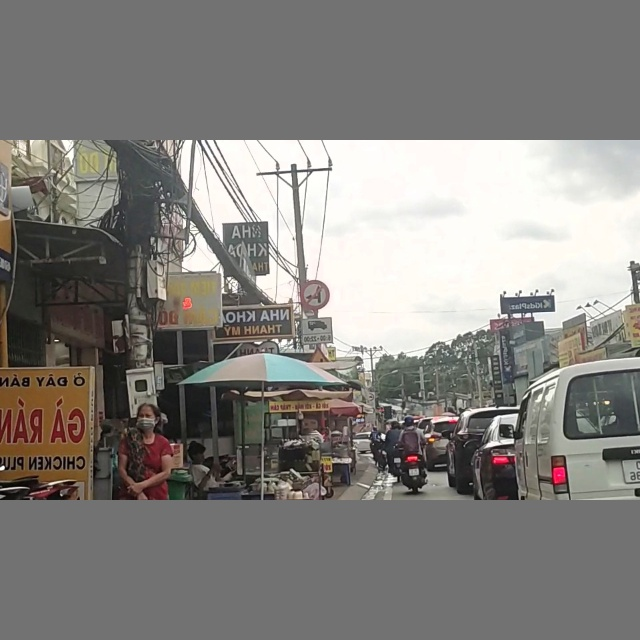P.139: (300, 279, 331, 309)
S.505a*Xe tai: (301, 318, 332, 341)
